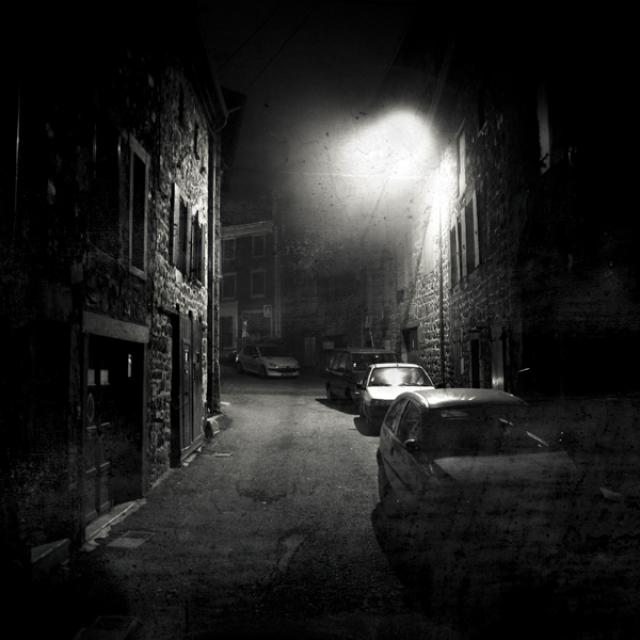Car: (374, 388, 588, 578), (324, 341, 394, 404), (232, 342, 302, 378)
